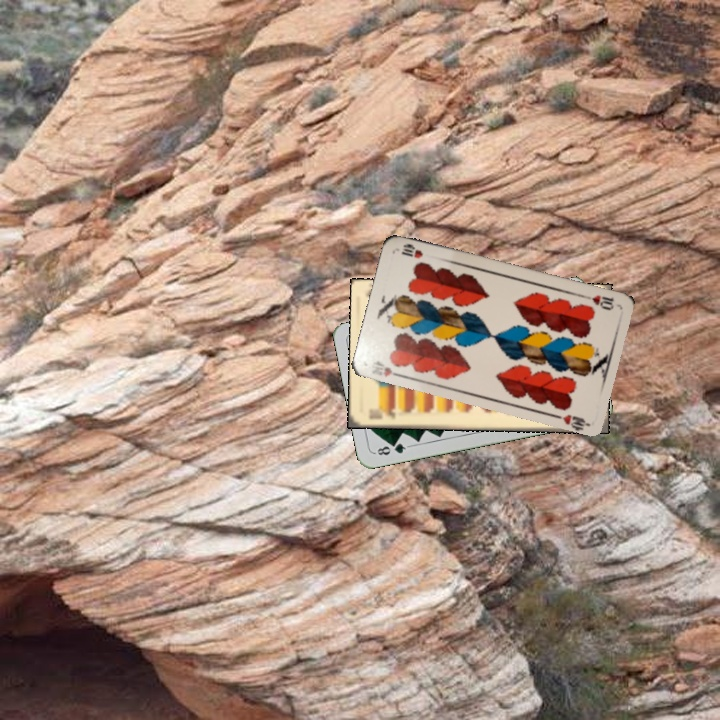E10: (365, 404, 397, 422)
G8: (371, 439, 411, 458)
H10: (367, 357, 405, 380), (578, 291, 616, 313)
